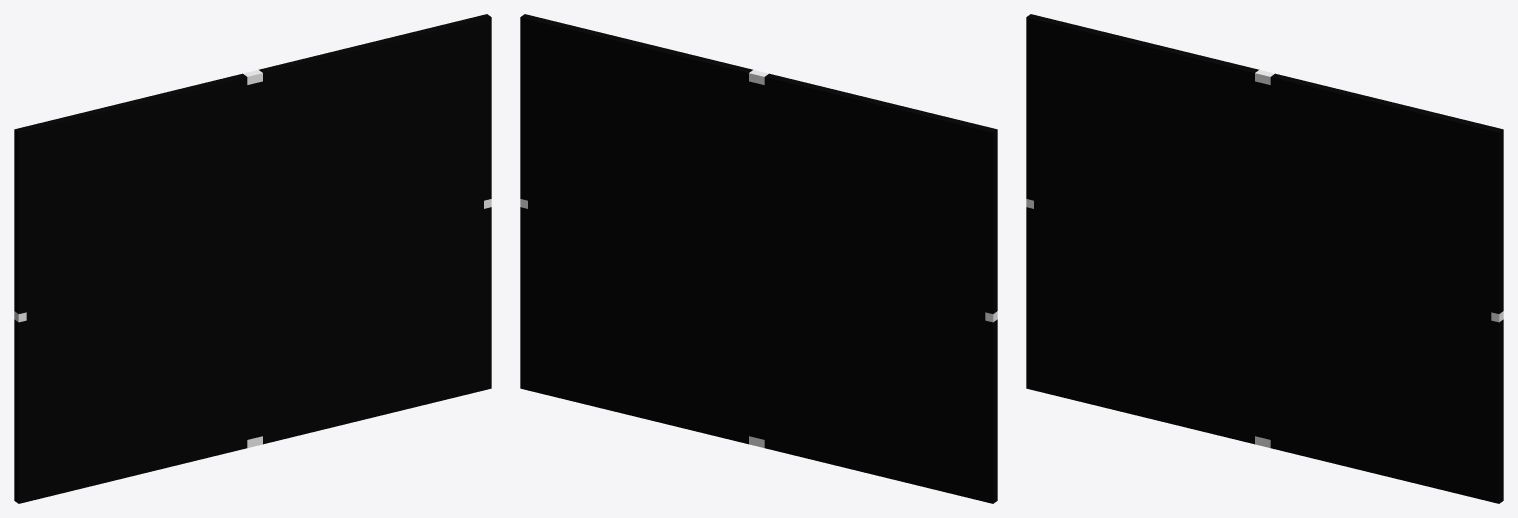
Rendered from bedroom-desk-view-television-10-pc-screenface.obj.
The picture shows the model from 3 angles, left to right: view 1: azimuth 30°, elevation 25°; view 2: azimuth 150°, elevation 25°; view 3: azimuth 330°, elevation 25°; orthographic projection.
Parts seen in each view (by area): view 1: pc-screenface; view 2: pc-screenface; view 3: pc-screenface.
Part boxes in pixels (x1,y1,x2,y2): pc-screenface: (14, 14, 491, 503); pc-screenface: (520, 14, 997, 503); pc-screenface: (1026, 14, 1503, 503).
Size of the model in its own units: 12 by 9 by 0.2.
1 material, 1 textured.
